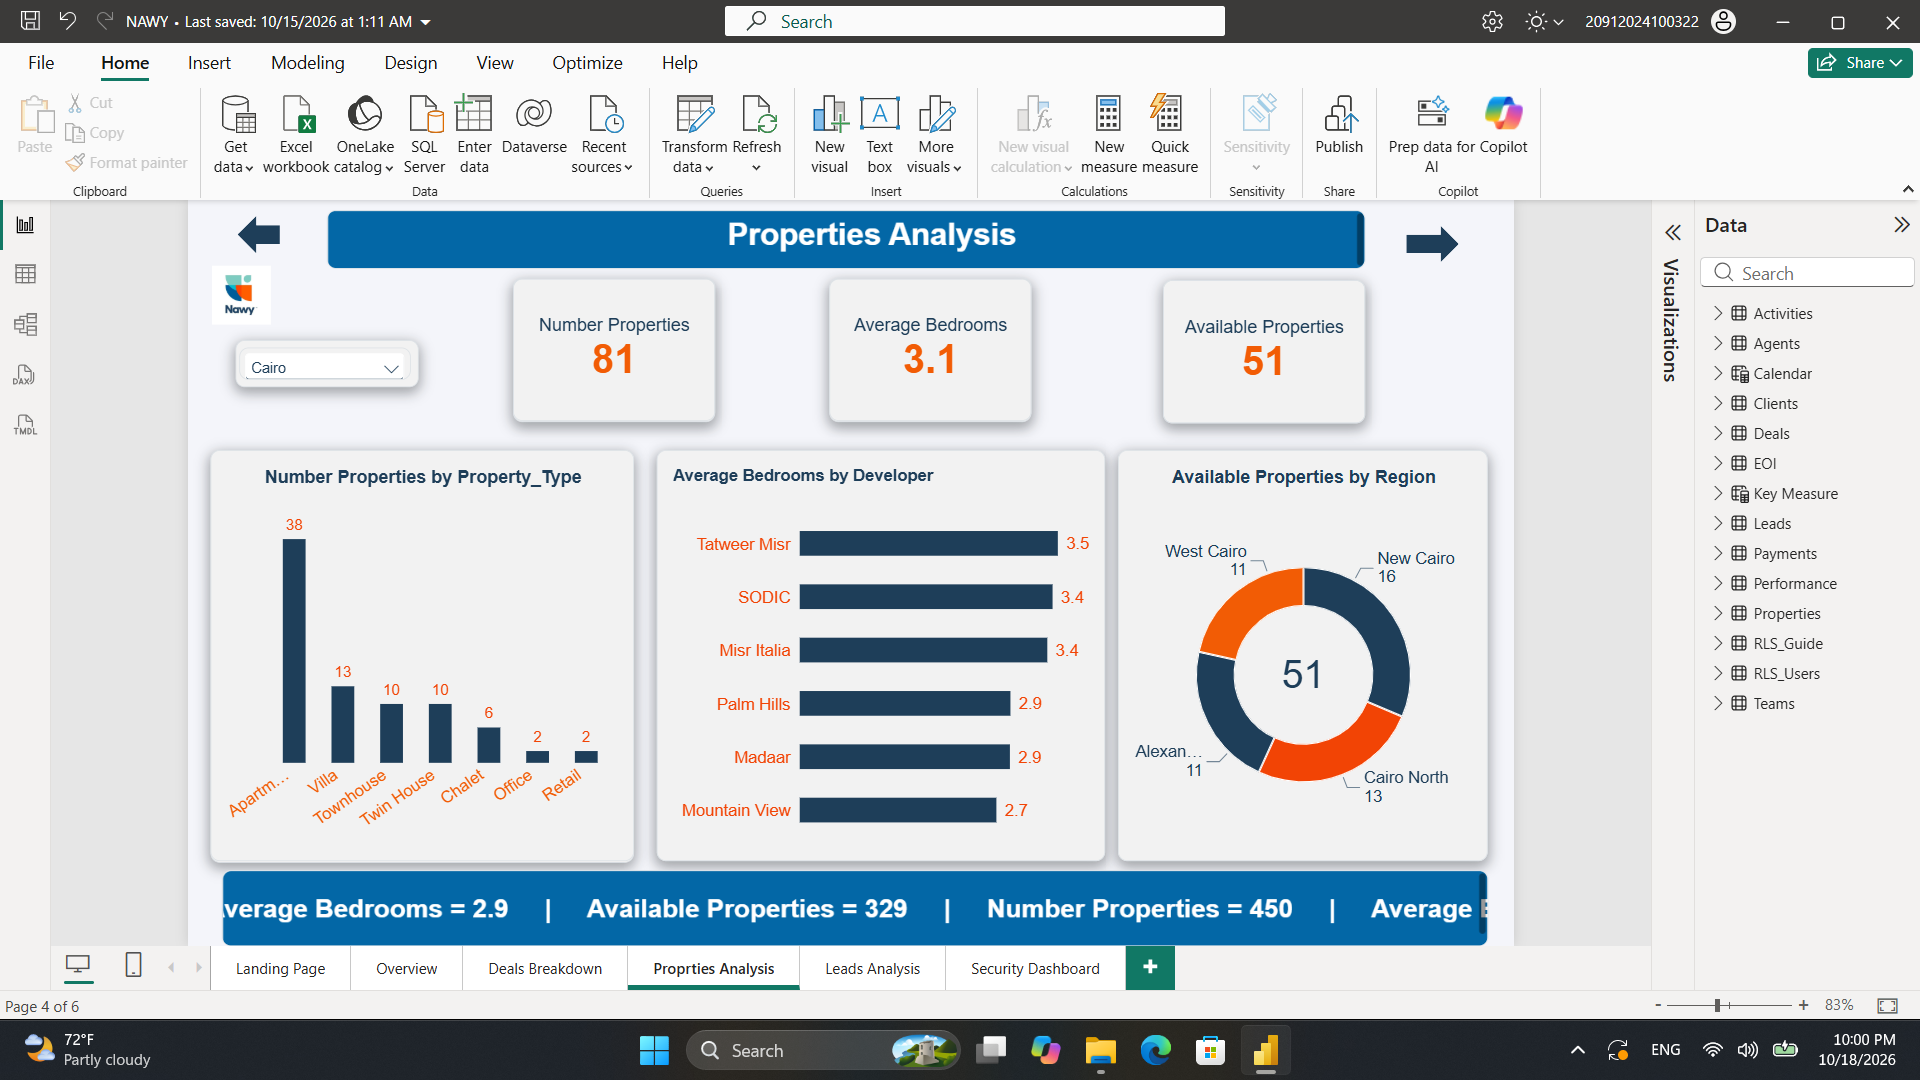

The dashboard page shown, as its layout file describes it:
{"tool":"powerbi","page":{"name":"Proprties Analysis","canvas":[1280,720],"ordinal":3},"visuals":[{"type":"shape","box":[313.7,76,194.9,138.6],"z":0},{"type":"shape","box":[618.9,76,194.9,138.6],"z":1000},{"type":"shape","box":[45.8,135.1,177,45.3],"z":2000},{"type":"shape","box":[21.7,241.3,409,398.1],"z":3000},{"type":"shape","box":[452.4,241.3,433.1,396.9],"z":4000},{"type":"shape","box":[941,77.2,194.9,138.6],"z":5000},{"type":"shape","box":[897.6,241.3,357.1,396.9],"z":6000},{"type":"image","box":[0,48.3,103.8,86.9],"z":7000},{"type":"htmlContent443BE3AD55E043BF878BED274D3A6855","fields":{"content":["Activities.Properties Analysis"]},"box":[133.9,9.7,1002.6,56.7],"z":8000},{"type":"cardVisual","fields":{"Data":["Key Measure.Number Properties"]},"box":[313.7,74.8,195.4,138.7],"z":9000},{"type":"cardVisual","fields":{"Data":["Key Measure.Available Properties"]},"box":[941,77.2,195.4,138.7],"z":10000},{"type":"cardVisual","fields":{"Data":["Key Measure.Average Bedrooms"]},"box":[618.9,74.8,195.4,138.7],"z":11000},{"type":"columnChart","fields":{"Category":["Properties.Property_Type"],"Y":["Key Measure.Number Properties"]},"box":[21.7,241.3,409,396.9],"z":12000},{"type":"barChart","fields":{"Category":["Properties.Developer"],"Y":["Key Measure.Average Bedrooms"]},"box":[452.4,241.3,433.1,396.9],"z":13000},{"type":"donutChart","fields":{"Category":["Properties.Region"],"Y":["Key Measure.Available Properties"]},"box":[897.6,241.3,357.1,396.9],"z":14000},{"type":"slicer","fields":{"Values":["Properties.City"]},"box":[49.5,142.4,165.3,31.4],"z":15000},{"type":"htmlContent443BE3AD55E043BF878BED274D3A6855","fields":{"content":["Key Measure.Propertie Analysis"]},"box":[32.6,646.7,1222.1,73.6],"z":16000},{"type":"shape","box":[32.6,0,71.2,66.4],"z":17000},{"type":"shape","box":[1160.6,9.7,80.8,65.1],"z":18000}]}

Visuals, with their boxes on the page's 1280x720 design canvas (x1, y1, x2, y2). These are canvas units, not pixel positions in the 1920x1080 screenshot, which may show the page scaled, cropped or inside an application window:
shape: [314,76,509,215]
shape: [619,76,814,215]
shape: [46,135,223,180]
shape: [22,241,431,639]
shape: [452,241,886,638]
shape: [941,77,1136,216]
shape: [898,241,1255,638]
image: [0,48,104,135]
htmlContent443BE3AD55E043BF878BED274D3A6855 - Activities.Properties Analysis: [134,10,1136,66]
cardVisual - Key Measure.Number Properties: [314,75,509,214]
cardVisual - Key Measure.Available Properties: [941,77,1136,216]
cardVisual - Key Measure.Average Bedrooms: [619,75,814,214]
columnChart - Properties.Property_Type x Key Measure.Number Properties: [22,241,431,638]
barChart - Properties.Developer x Key Measure.Average Bedrooms: [452,241,886,638]
donutChart - Properties.Region x Key Measure.Available Properties: [898,241,1255,638]
slicer - Properties.City: [50,142,215,174]
htmlContent443BE3AD55E043BF878BED274D3A6855 - Key Measure.Propertie Analysis: [33,647,1255,720]
shape: [33,0,104,66]
shape: [1161,10,1241,75]
